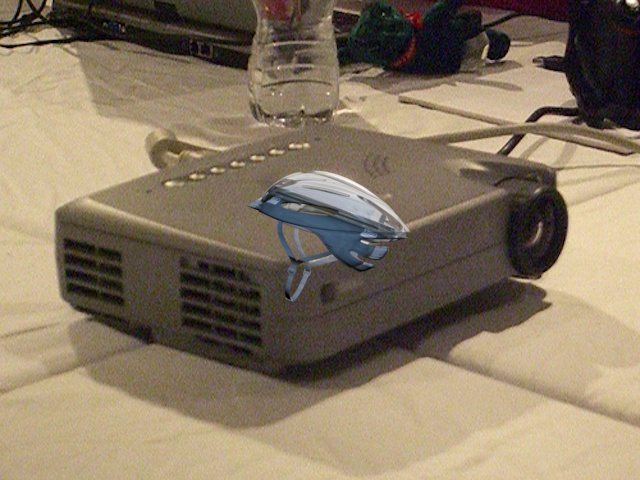bike_helmet: (241, 160, 416, 305)
